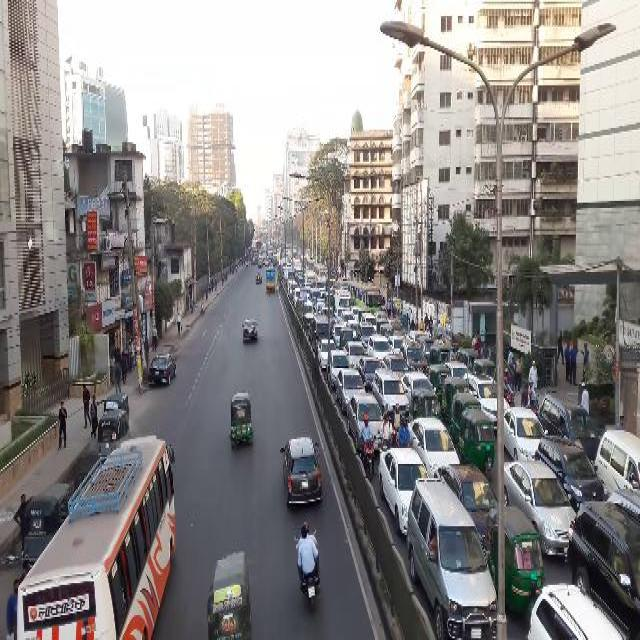bike: (295, 518, 320, 611), (357, 414, 377, 478), (380, 412, 395, 472), (399, 415, 411, 447), (394, 403, 403, 445)
vehicle: (61, 435, 177, 637), (408, 477, 498, 602), (569, 504, 640, 630), (505, 459, 577, 557), (486, 509, 544, 617), (435, 462, 497, 546), (527, 584, 623, 638), (537, 436, 606, 509), (380, 448, 432, 539), (539, 391, 601, 461), (206, 548, 254, 638), (24, 477, 74, 560), (408, 416, 461, 478), (596, 428, 639, 498), (282, 437, 323, 508), (465, 371, 511, 428), (504, 406, 548, 461), (460, 412, 496, 479), (347, 393, 387, 452), (373, 367, 409, 417), (451, 391, 481, 443), (98, 410, 130, 456), (337, 368, 368, 413), (231, 392, 254, 446), (443, 374, 471, 417), (348, 280, 383, 312), (401, 371, 437, 399), (399, 340, 428, 374), (328, 350, 353, 389), (409, 388, 441, 418), (428, 362, 451, 401), (358, 358, 384, 392), (312, 316, 334, 355), (149, 355, 177, 383), (318, 340, 339, 370), (344, 342, 368, 368), (457, 346, 480, 371), (369, 335, 394, 358), (430, 344, 453, 367), (357, 321, 377, 346), (104, 394, 131, 412), (474, 357, 497, 377), (444, 361, 470, 377), (336, 288, 353, 311), (389, 317, 406, 339), (418, 335, 435, 357), (430, 345, 451, 361), (244, 319, 259, 341), (340, 328, 354, 351), (302, 301, 314, 327), (390, 335, 407, 353), (406, 330, 427, 344), (361, 313, 377, 329), (346, 321, 360, 339), (314, 262, 328, 280), (266, 268, 276, 293), (341, 310, 356, 326), (310, 286, 322, 306), (380, 325, 394, 339), (377, 319, 389, 335), (290, 281, 299, 297), (306, 270, 316, 284), (325, 293, 334, 307), (295, 287, 300, 310), (256, 272, 263, 285), (288, 268, 295, 278), (269, 263, 274, 269), (258, 259, 262, 266)
